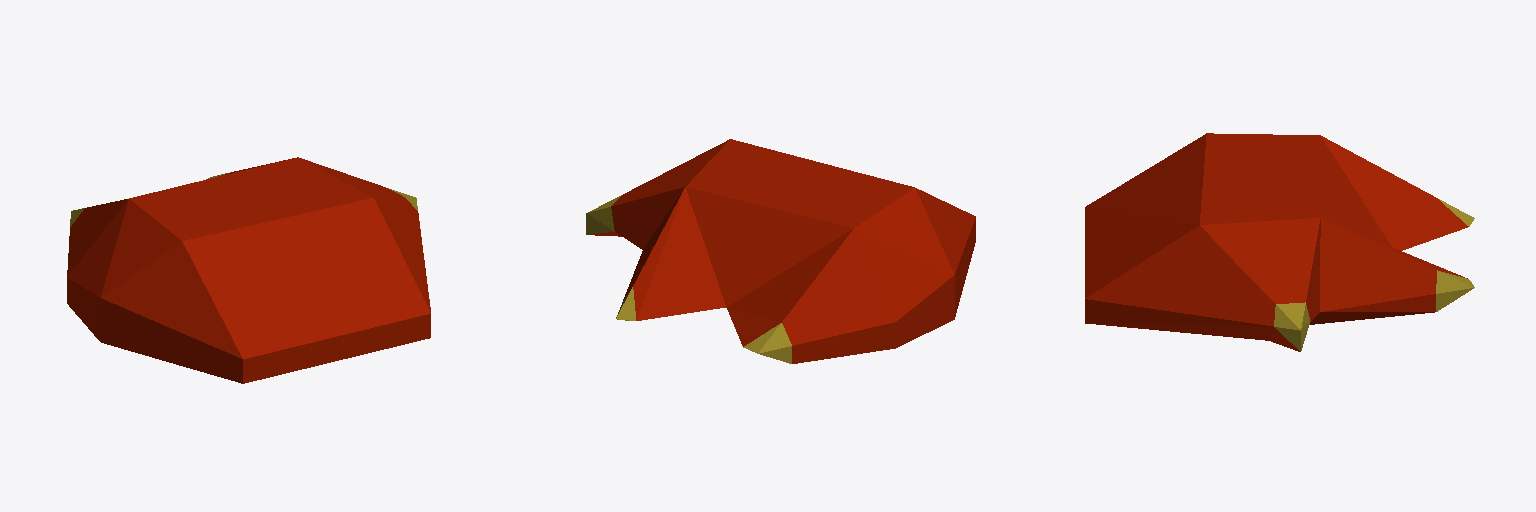
File: paw.obj
3 renders of one model, left to right at view 1: azimuth 30°, elevation 25°; view 2: azimuth 150°, elevation 25°; view 3: azimuth 270°, elevation 25°, orthographic.
Visible parts, largest first — view 1: Cube; view 2: Cube, Cube.001; view 3: Cube, Cube.001.
Part boxes in pixels (left/top/right/bottom): Cube: left=67, top=157, right=430, bottom=383; Cube: left=591, top=139, right=975, bottom=363; Cube.001: left=586, top=195, right=791, bottom=363; Cube: left=1085, top=133, right=1468, bottom=351; Cube.001: left=1274, top=199, right=1474, bottom=351.
Bounding box in the file's own units: 2.41 × 0.9242 × 2.38.